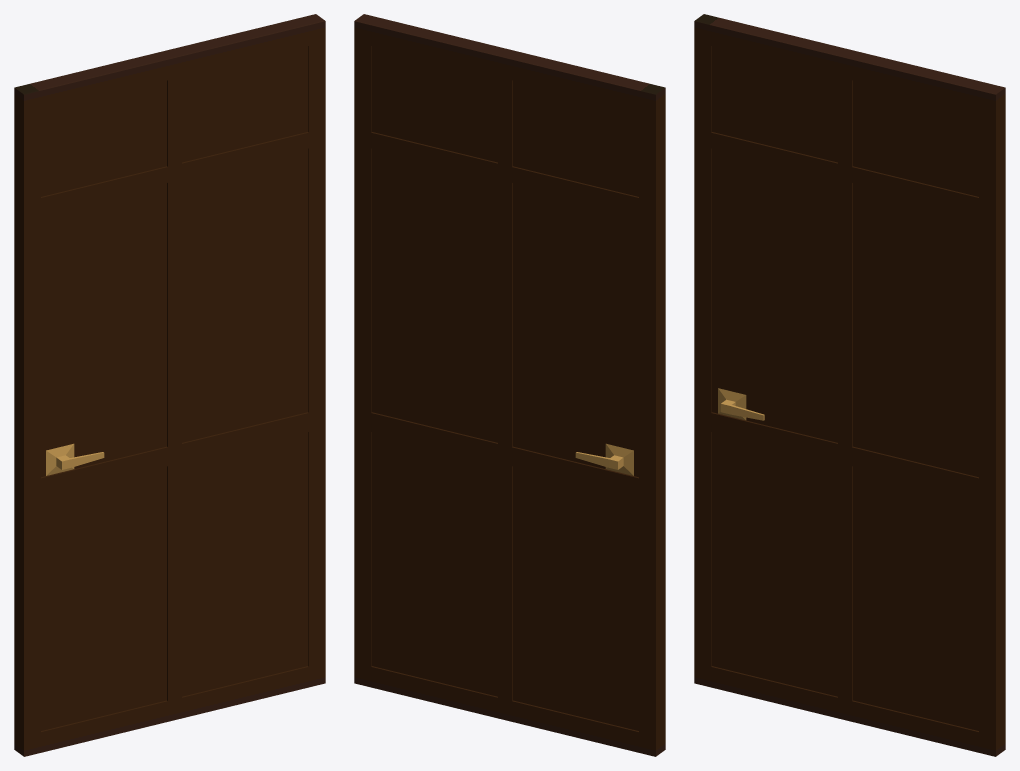
File: Door.fbx
3 views of the same model, side by side, from view 1: azimuth 30°, elevation 25°; view 2: azimuth 150°, elevation 25°; view 3: azimuth 330°, elevation 25° (orthographic).
Visible parts, largest first — view 1: Cube.013; view 2: Cube.013; view 3: Cube.013.
Part boxes in pixels (<box>): Cube.013: <box>14,14,325,756</box>; Cube.013: <box>354,14,665,756</box>; Cube.013: <box>694,14,1005,756</box>.
Bounding box in the file's own units: 548 × 1151 × 66.49.
